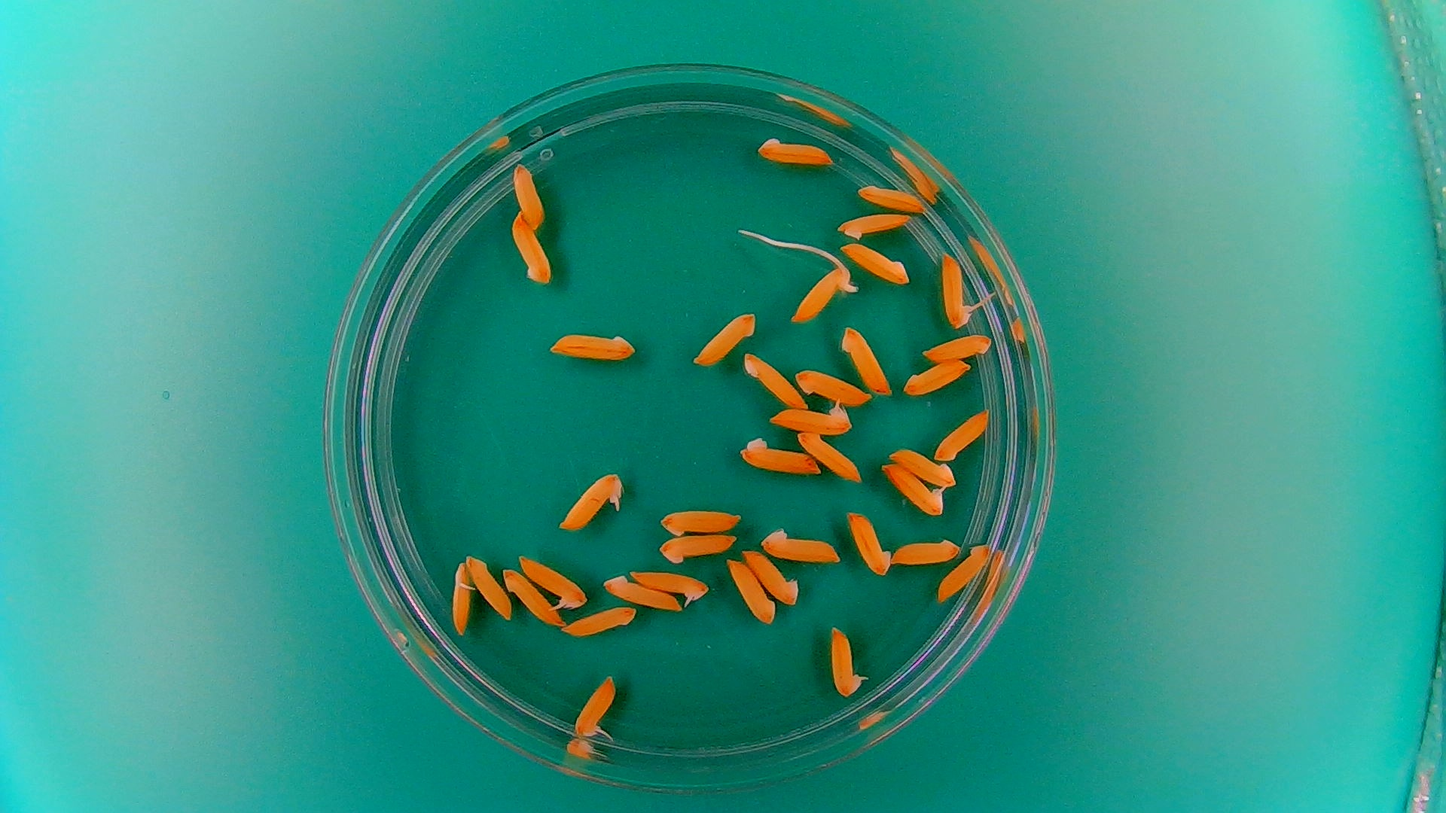no: (688, 309, 760, 368), (740, 349, 808, 409), (499, 565, 563, 628), (838, 323, 893, 396), (734, 432, 822, 477), (507, 207, 552, 289), (543, 326, 640, 364), (740, 546, 801, 606), (841, 509, 893, 579), (796, 431, 863, 485), (937, 541, 993, 604), (837, 239, 912, 286), (759, 522, 840, 565), (725, 559, 775, 626), (601, 571, 680, 613), (932, 407, 990, 461), (465, 553, 511, 620), (657, 503, 745, 538), (792, 365, 870, 404), (749, 136, 839, 169), (886, 445, 957, 486), (509, 159, 548, 231), (853, 179, 928, 215), (658, 531, 737, 565), (902, 358, 972, 396), (561, 604, 636, 639), (834, 210, 914, 242), (890, 535, 962, 567), (921, 332, 994, 363)
yes: (554, 468, 625, 533), (789, 260, 857, 325), (517, 553, 589, 611), (880, 461, 947, 517), (571, 671, 618, 741), (828, 623, 870, 700), (939, 250, 978, 329), (632, 565, 710, 604), (770, 400, 851, 436), (449, 559, 477, 638)
